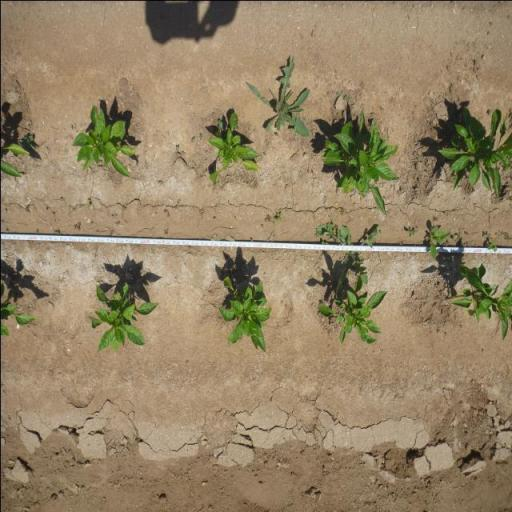plant: (438, 100, 512, 202), (319, 124, 397, 218), (441, 259, 512, 342), (84, 280, 160, 356), (72, 106, 135, 180), (203, 108, 261, 188), (219, 272, 273, 356), (316, 290, 390, 346)
weed: (246, 54, 312, 140), (314, 219, 383, 293), (424, 224, 450, 260), (22, 134, 36, 148), (216, 116, 226, 130), (502, 231, 512, 243), (487, 239, 497, 251), (406, 226, 416, 238), (72, 219, 80, 232), (452, 232, 461, 243), (274, 210, 282, 222), (263, 213, 271, 222), (162, 208, 169, 218), (86, 196, 91, 210), (52, 227, 60, 235), (370, 118, 376, 128), (484, 231, 491, 239), (174, 144, 180, 152), (121, 202, 127, 210), (23, 206, 30, 212), (162, 228, 168, 234), (110, 212, 116, 218), (432, 215, 437, 222), (198, 132, 202, 140), (190, 135, 194, 142), (115, 221, 119, 225)
